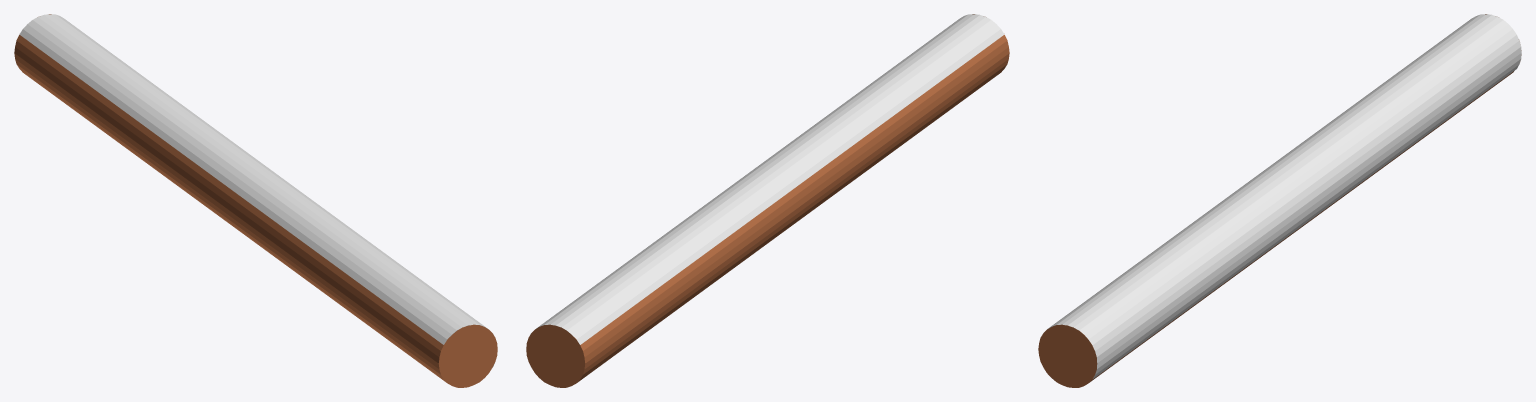
The model's file is moving-bar_draco.glb.
The picture shows the model from 3 angles, left to right: view 1: azimuth 30°, elevation 25°; view 2: azimuth 150°, elevation 25°; view 3: azimuth 330°, elevation 25°; orthographic projection.
Visible parts, largest first — view 1: moving-bar; view 2: moving-bar; view 3: moving-bar.
Part boxes in pixels (left/top/right/bottom): moving-bar: left=14, top=14, right=497, bottom=387; moving-bar: left=526, top=14, right=1009, bottom=387; moving-bar: left=1038, top=14, right=1521, bottom=387.
Size of the model in its own units: 0.0799 by 0.0801 by 0.9969.
